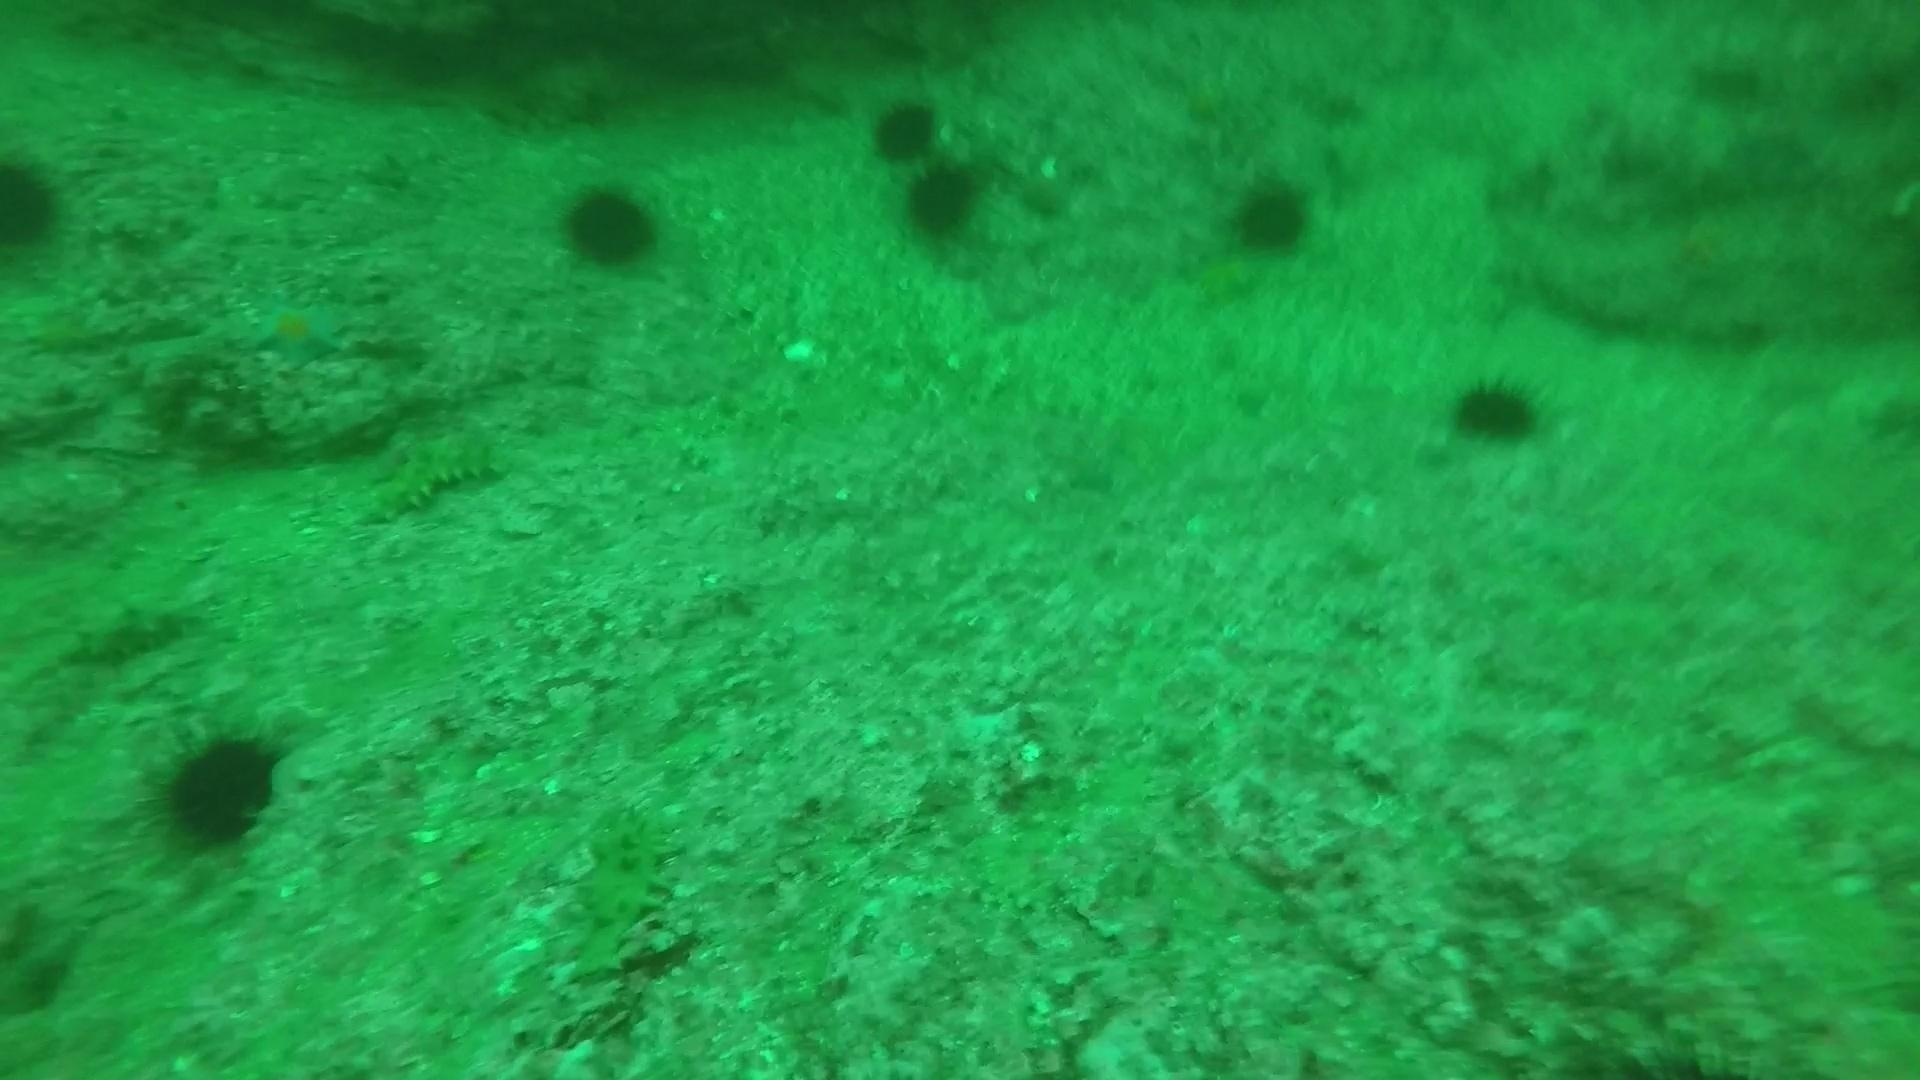echinus: (144, 723, 290, 855), (553, 177, 665, 276), (1444, 368, 1548, 452), (1222, 170, 1319, 261), (895, 156, 986, 245), (0, 146, 69, 258), (864, 91, 947, 167)
holothurian: (556, 804, 684, 986), (357, 425, 510, 527), (58, 591, 211, 673)
starfish: (244, 287, 353, 372), (1178, 243, 1265, 310)
